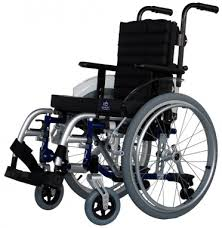wheelchair: (6, 3, 219, 218)
